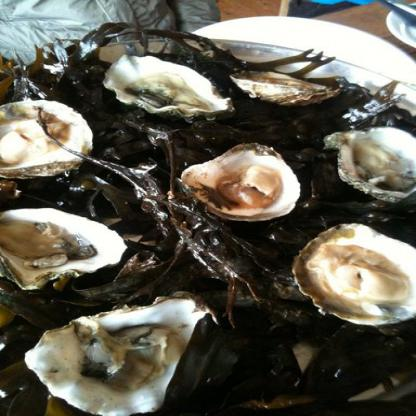oyster: (20, 295, 214, 415), (302, 226, 415, 336), (0, 197, 133, 290), (177, 138, 302, 226), (0, 104, 102, 188), (330, 116, 415, 199), (116, 62, 224, 118)
